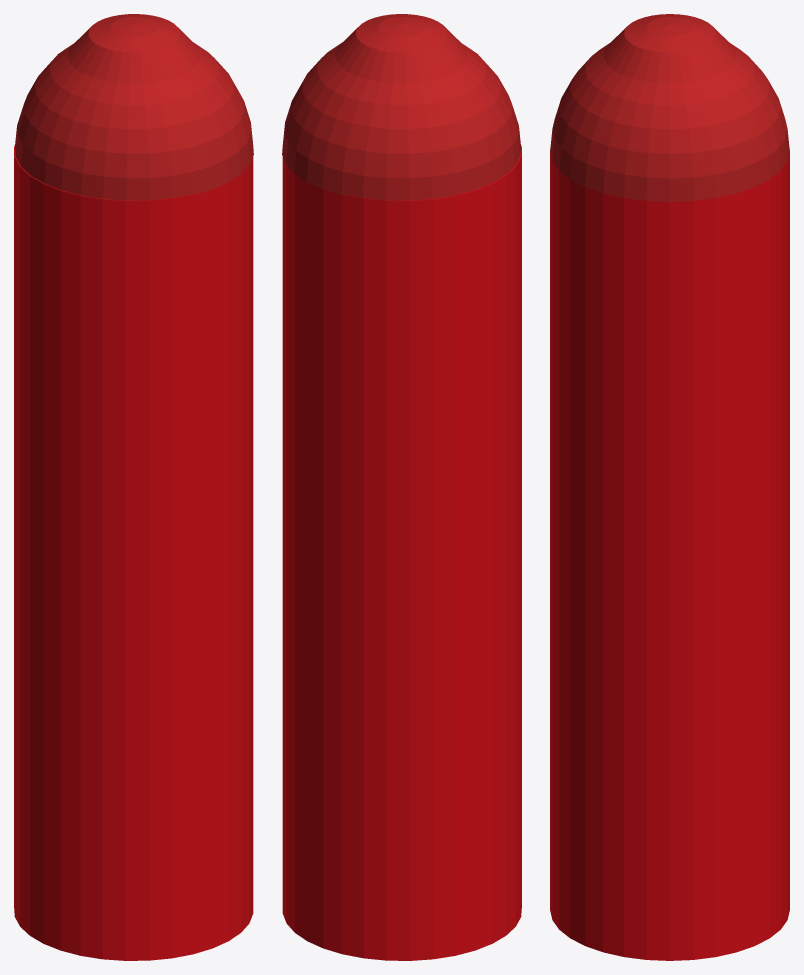
Rendered from extintor.gltf.
3 views of the same model, side by side, from view 1: azimuth 30°, elevation 25°; view 2: azimuth 150°, elevation 25°; view 3: azimuth 270°, elevation 25° (orthographic).
Parts seen in each view (by area): view 1: Cylinder, Sphere; view 2: Cylinder, Sphere; view 3: Cylinder, Sphere.
Part boxes in pixels (x1=…): Cylinder: x1=14, y1=145, x2=253, y2=960; Sphere: x1=15, y1=14, x2=253, y2=200; Cylinder: x1=282, y1=145, x2=521, y2=960; Sphere: x1=282, y1=14, x2=520, y2=200; Cylinder: x1=550, y1=150, x2=789, y2=960; Sphere: x1=550, y1=14, x2=789, y2=201.
Size of the model in its own units: 0.3921 by 1.59 by 0.3907.
